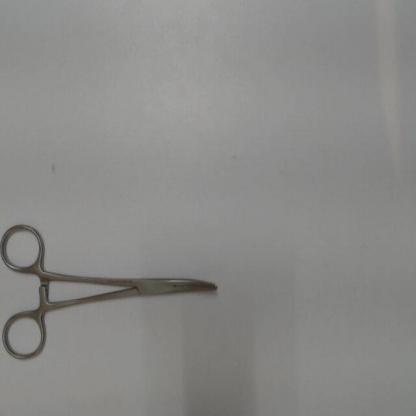Crile Artery Forceps: (1, 214, 230, 362)
